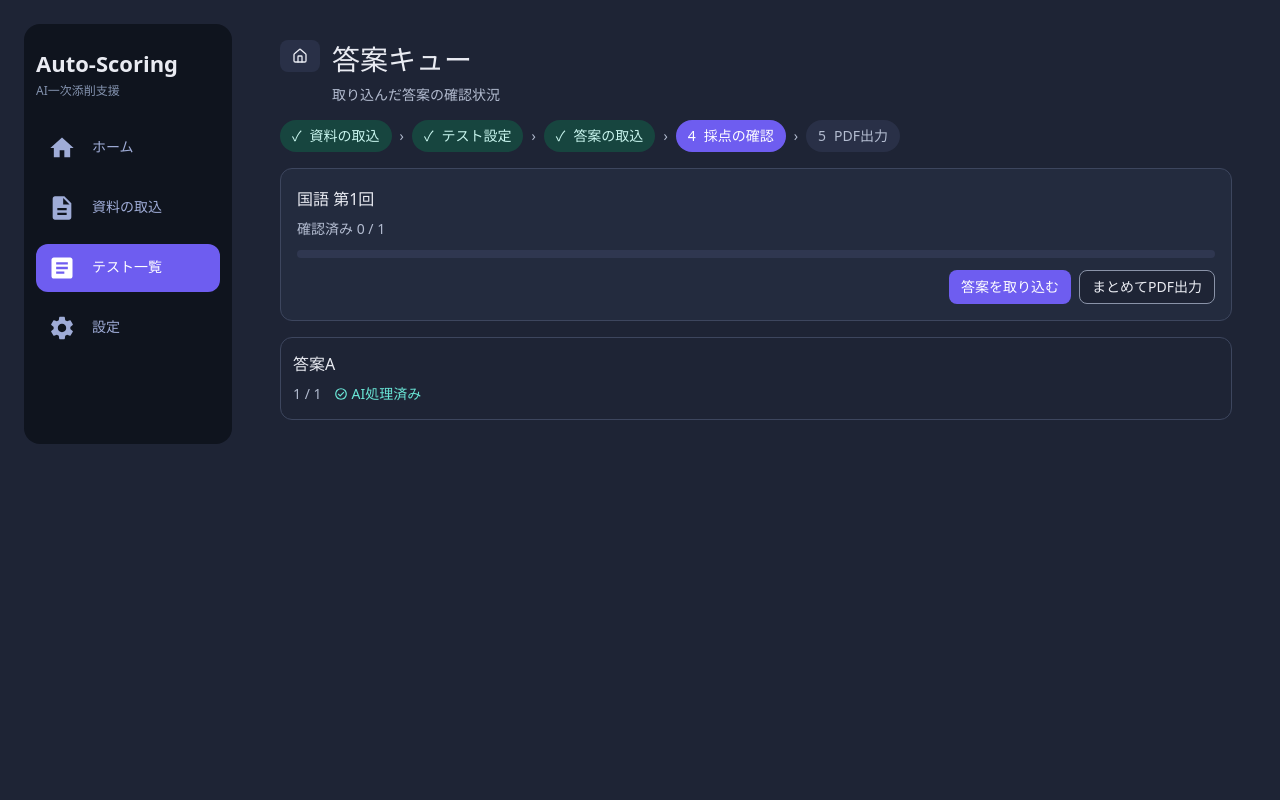
SubmissionConfirmPage (Issue #245) › INV-021 follow-up: queue row opens confirm page
Click the button with test id "queue-row-s1" at (314, 364), box [293,353,421,403]
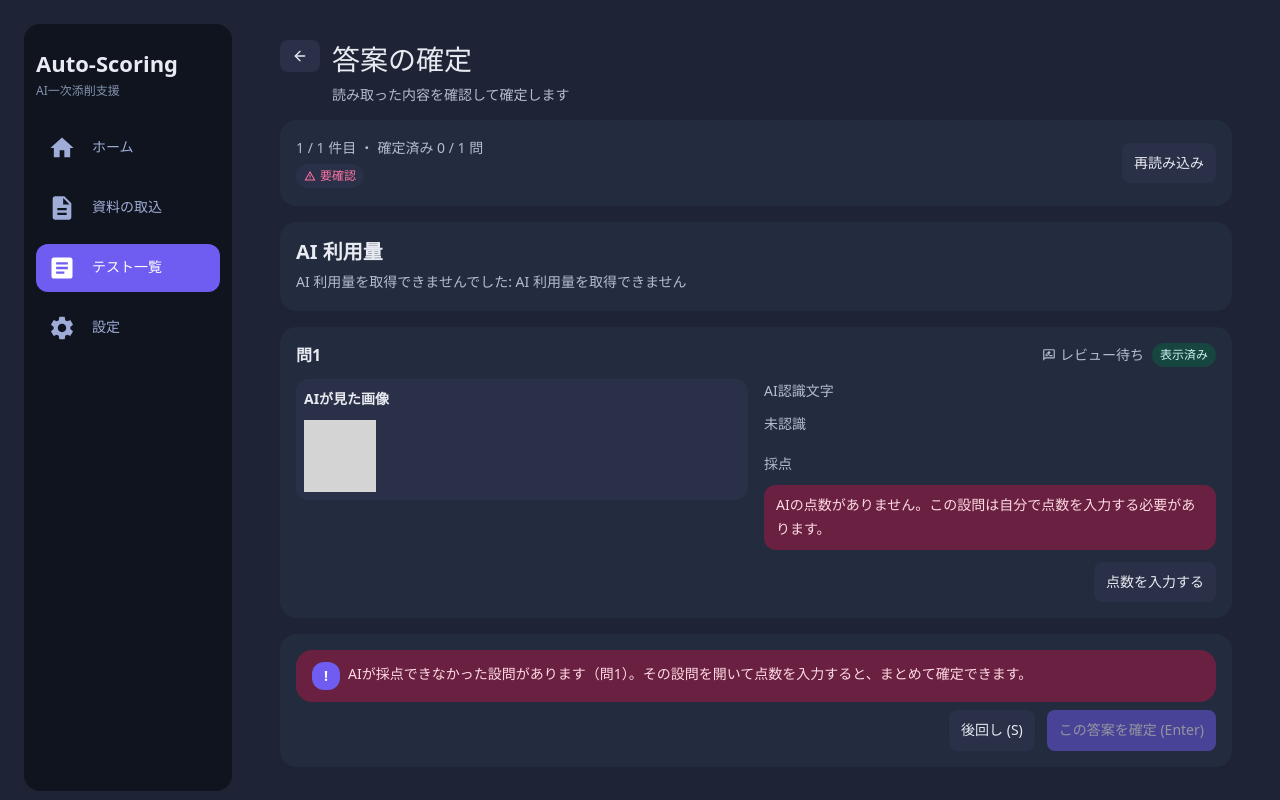
Expected: the element with test id "confirm-question-list" is shown, [280,327,1232,618]
Expected: the text "1 / 1 件目 ・ 確定済み 0 / 1 問" is shown, [296,138,483,157]
